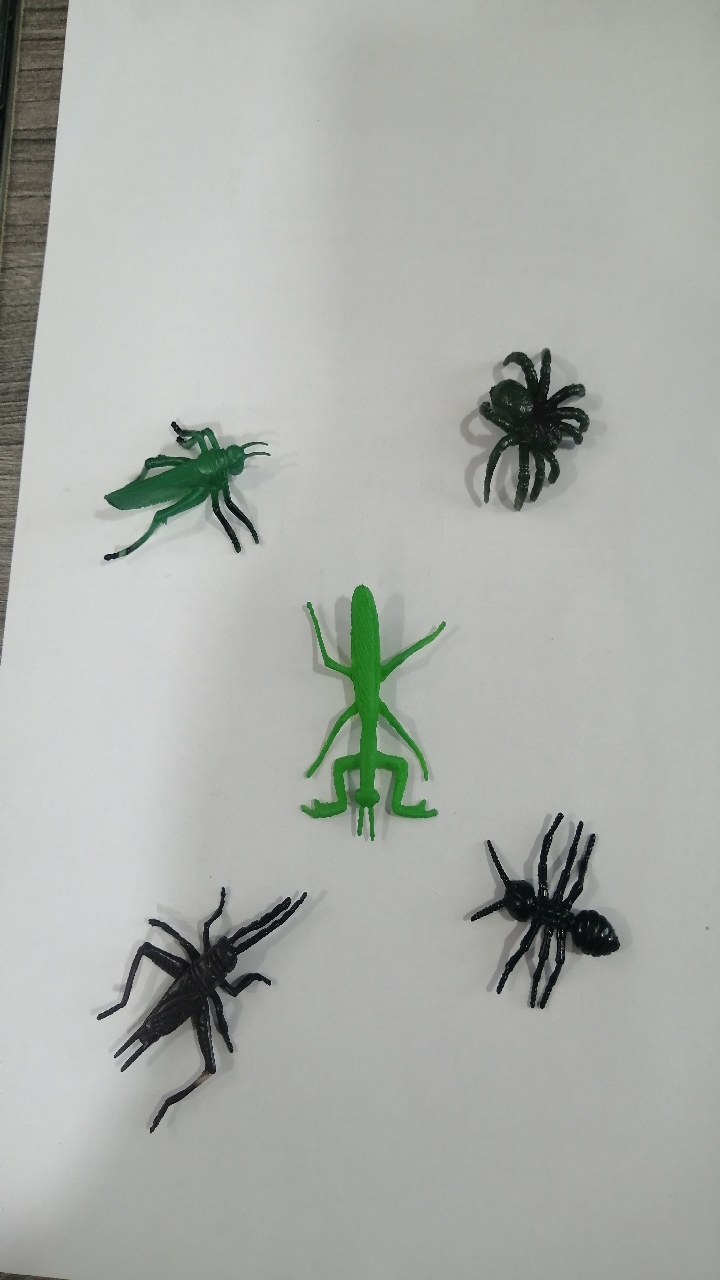intruso: (63, 859, 343, 1142), (272, 566, 454, 863), (444, 791, 640, 1034), (71, 403, 266, 594), (435, 320, 600, 529)
